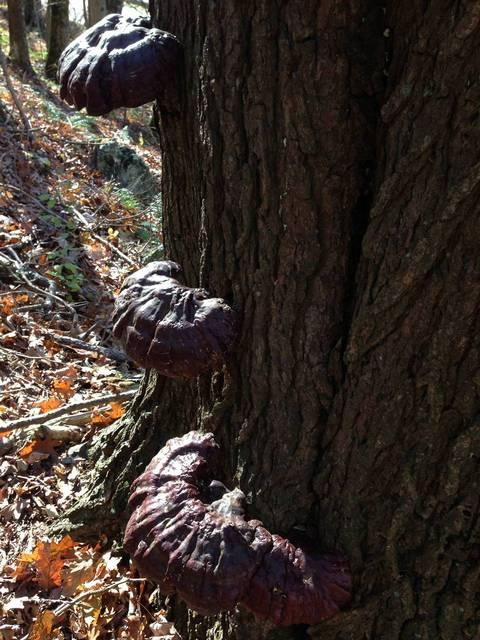poisonous_mushroom: (120, 428, 354, 627), (107, 258, 239, 380), (54, 11, 183, 117)
